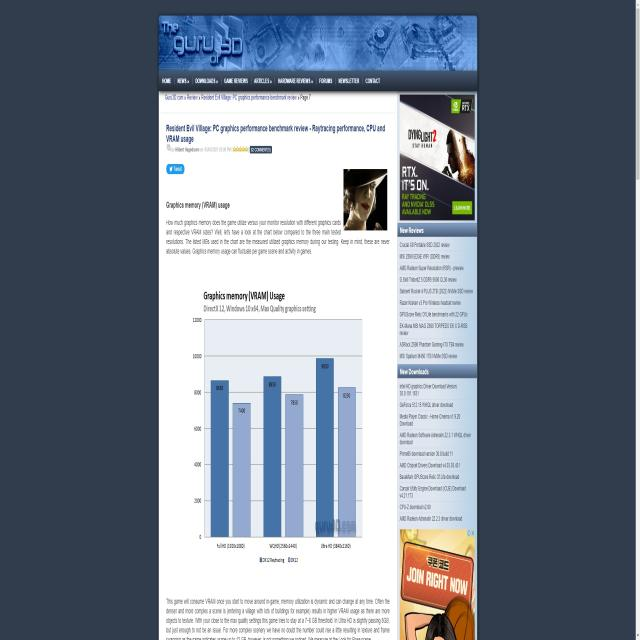side-panel: (398, 222, 477, 640)
tab-bar: (158, 72, 382, 90)
